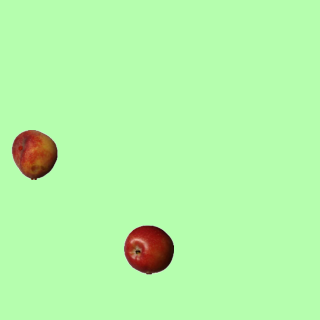Apple Braeburn: (123, 224, 173, 274)
Peach: (9, 129, 59, 179)
